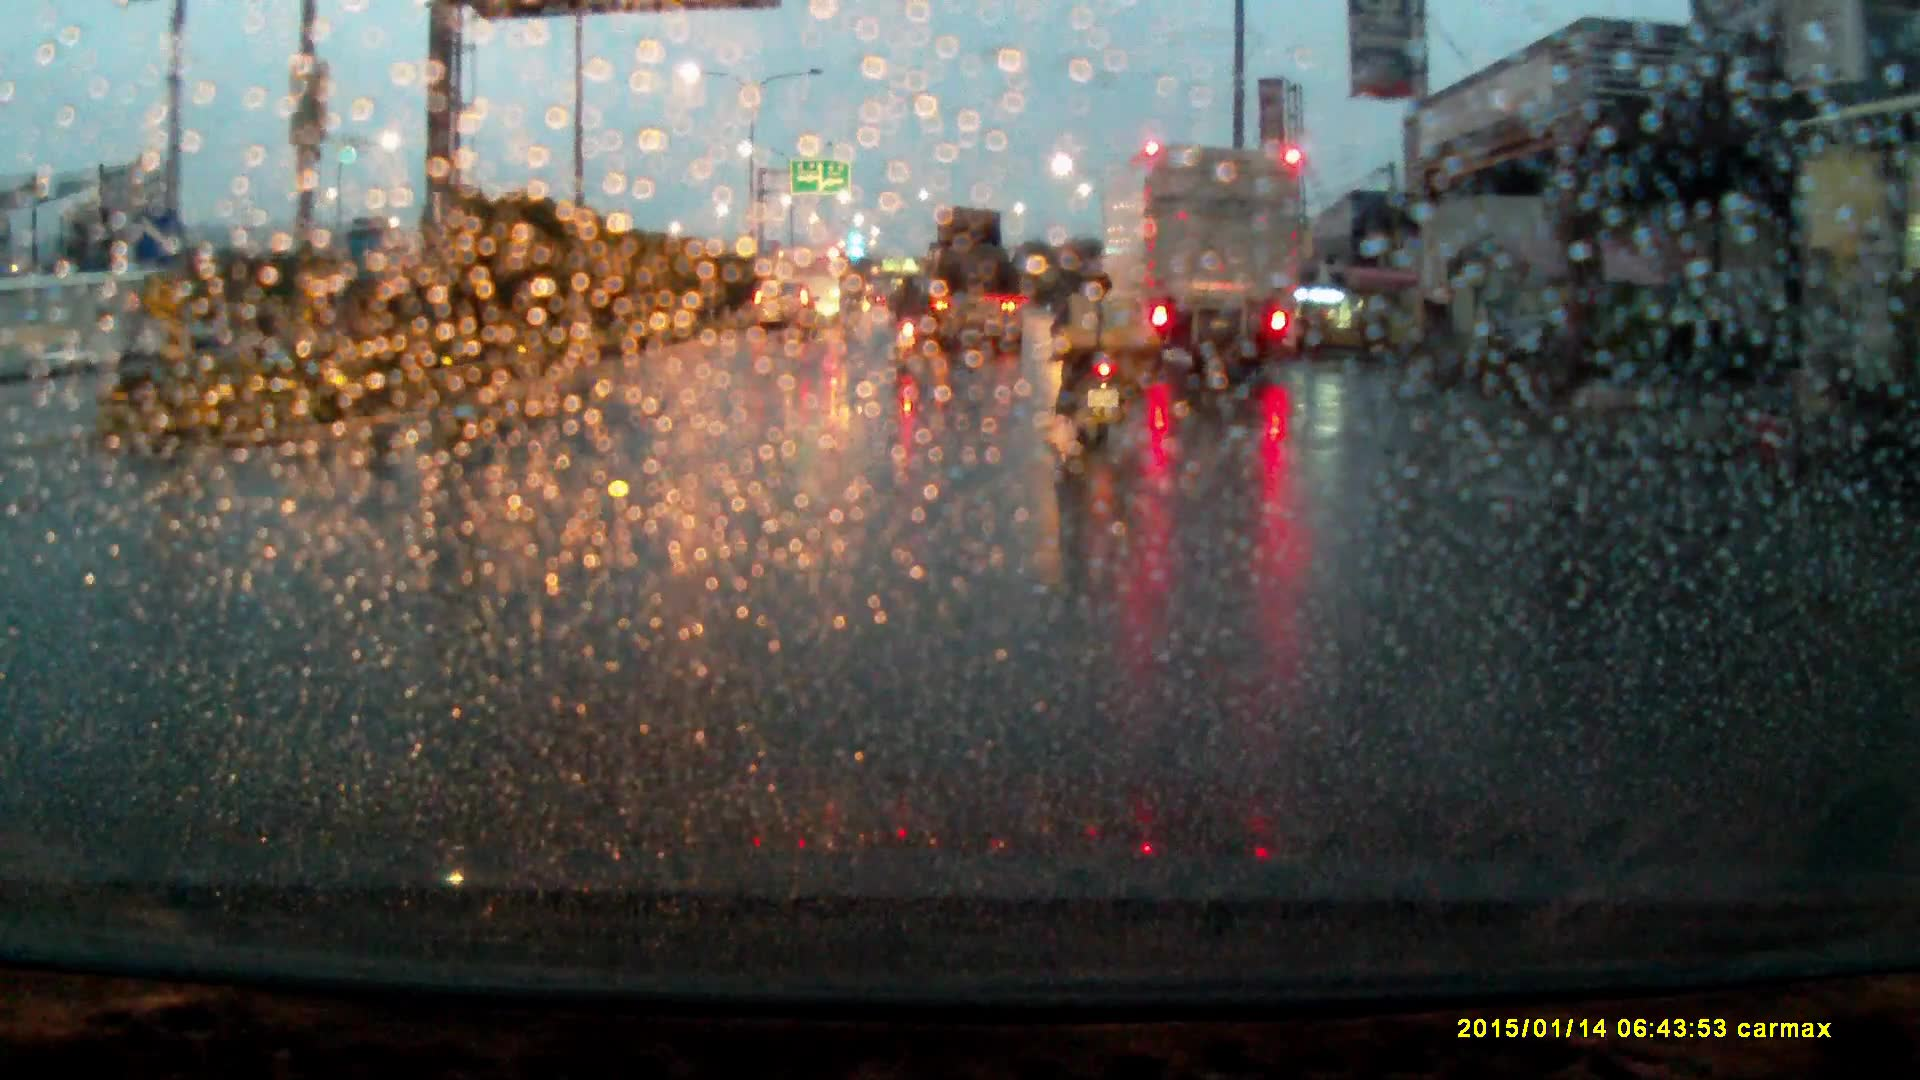rider: (1052, 256, 1137, 450), (891, 268, 930, 361)
vehicle: (1096, 143, 1307, 382), (916, 213, 1022, 363), (780, 244, 855, 327), (751, 285, 823, 351)
